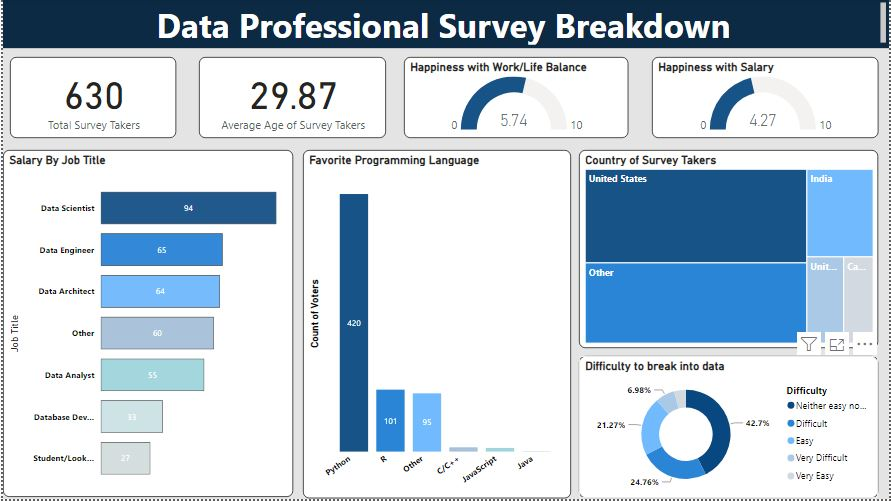

The dashboard page shown, as its layout file describes it:
{"tool":"powerbi","page":{"name":"Page 1","canvas":[1280,722],"ordinal":0},"visuals":[{"type":"textbox","box":[0,0,1280.2,70.6],"z":0},{"type":"card","fields":{"Values":["CountNonNull(Data Professional Survey.Unique ID)"]},"box":[10.1,83.5,240.5,116.6],"z":1000},{"type":"card","fields":{"Values":["Avg(Data Professional Survey.Q10 - Current Age)"]},"box":[283,83.8,270,117],"z":2000},{"type":"barChart","title":"Salary By Job Title","fields":{"Category":["Data Professional Survey.Q1 - Which Title Best Fits your Current Role?.1"],"Y":["Avg(Data Professional Survey.Average Salary)"],"Series":["Data Professional Survey.Q1 - Which Title Best Fits your Current Role?.1"]},"box":[0,218,418.8,501.1],"z":3000},{"type":"columnChart","title":"  Favorite Programming Language","fields":{"Category":["Data Professional Survey.Q5 - Favorite Programming Language.1"],"Y":["CountNonNull(Data Professional Survey.Unique ID)"],"Series":["Data Professional Survey.Q5 - Favorite Programming Language.1"]},"box":[433.2,218,387,502.5],"z":4000},{"type":"treemap","title":"Country of Survey Takers","fields":{"Group":["Data Professional Survey.Q11 - Which Country do you live in?.1"],"Values":["CountNonNull(Data Professional Survey.Q11 - Which Country do you live in?.1)"]},"box":[831.7,218,431.8,285.9],"z":5000},{"type":"gauge","title":"Happiness with Work/Life Balance","fields":{"Y":["Avg(Data Professional Survey.Q6 - How Happy are you in your Current Position with the following? (Work/Life Balance))"],"MinValue":["Min(Data Professional Survey.Q6 - How Happy are you in your Current Position with the following? (Work/Life Balance))1"],"MaxValue":["Max(Data Professional Survey.Q6 - How Happy are you in your Current Position with the following? (Work/Life Balance))2"]},"box":[578.9,83.5,324,116.6],"z":6000},{"type":"gauge","title":"Happiness with Salary","fields":{"Y":["Avg(Data Professional Survey.Q6 - How Happy are you in your Current Position with the following? (Salary))"],"MinValue":["Min(Data Professional Survey.Q6 - How Happy are you in your Current Position with the following? (Salary))"],"MaxValue":["Max(Data Professional Survey.Q6 - How Happy are you in your Current Position with the following? (Salary))"]},"box":[937.4,83.5,326.9,116.6],"z":7000},{"type":"donutChart","title":"Difficulty to break into data","fields":{"Series":["Data Professional Survey.Q7 - How difficult was it for you to break into Data?"],"Category":["Data Professional Survey.Q7 - How difficult was it for you to break into Data?"],"Y":["CountNonNull(Data Professional Survey.Q7 - How difficult was it for you to break into Data?)"]},"box":[831.7,515.5,431.8,205],"z":8000}]}

Visuals, with their boxes in screenshot pixels (x1, y1, x2, y2), scaled from the page's 1280x722 canvas onto the 891x501 screenshot:
textbox: <bbox>0, 0, 890, 49</bbox>
card - CountNonNull(Data Professional Survey.Unique ID): <bbox>7, 58, 174, 139</bbox>
card - Avg(Data Professional Survey.Q10 - Current Age): <bbox>197, 58, 385, 139</bbox>
"Salary By Job Title" barChart: <bbox>0, 151, 292, 499</bbox>
"  Favorite Programming Language" columnChart: <bbox>302, 151, 571, 500</bbox>
"Country of Survey Takers" treemap: <bbox>579, 151, 880, 350</bbox>
"Happiness with Work/Life Balance" gauge: <bbox>403, 58, 629, 139</bbox>
"Happiness with Salary" gauge: <bbox>653, 58, 880, 139</bbox>
"Difficulty to break into data" donutChart: <bbox>579, 358, 880, 500</bbox>
